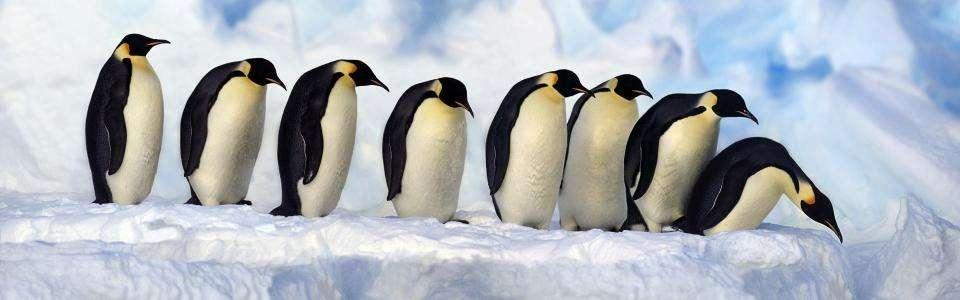Penguin: (623, 90, 758, 231), (270, 60, 388, 216), (486, 69, 594, 227), (684, 137, 841, 241), (180, 58, 285, 205), (559, 75, 652, 229), (86, 34, 168, 204), (382, 77, 474, 224)
